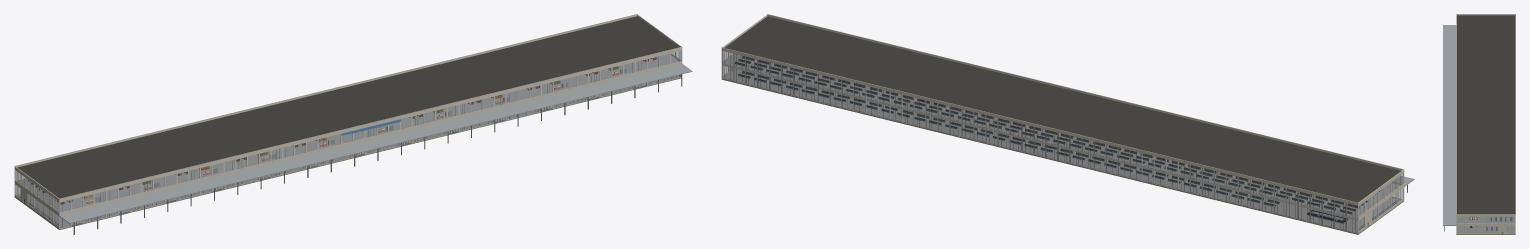
File: terminal_1.glb
3 renders of one model, left to right at view 1: azimuth 30°, elevation 25°; view 2: azimuth 150°, elevation 25°; view 3: azimuth 270°, elevation 25°, orthographic. The views are drawn at different scales.
Parts seen in each view (by area): view 1: LOD0, FURN; view 2: LOD0, FURN; view 3: LOD0, FURN.
Boxes of the visible parts, left/top/right/bottom form: LOD0: left=14, top=14, right=692, bottom=234; FURN: left=19, top=57, right=656, bottom=225; LOD0: left=721, top=14, right=1414, bottom=234; FURN: left=734, top=56, right=1398, bottom=230; LOD0: left=1443, top=14, right=1515, bottom=234; FURN: left=1469, top=216, right=1512, bottom=230.
Size of what is drawn, in the model's own units: 320 by 15.33 by 49.05.
